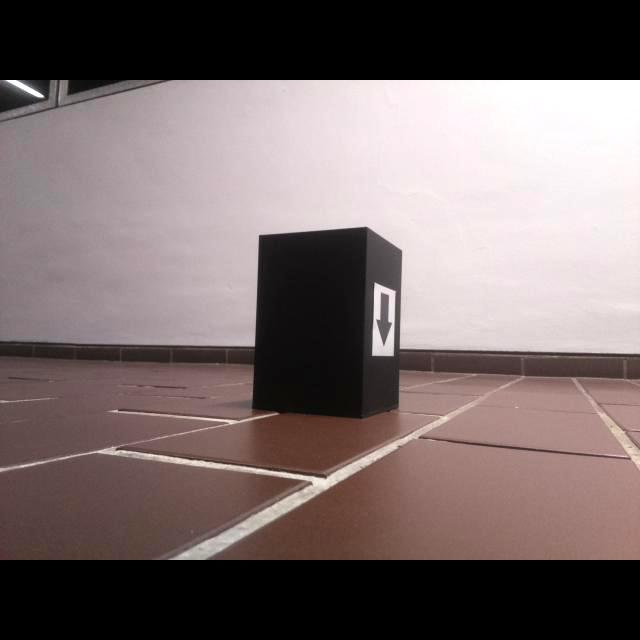DOWN: (375, 292, 393, 348)
